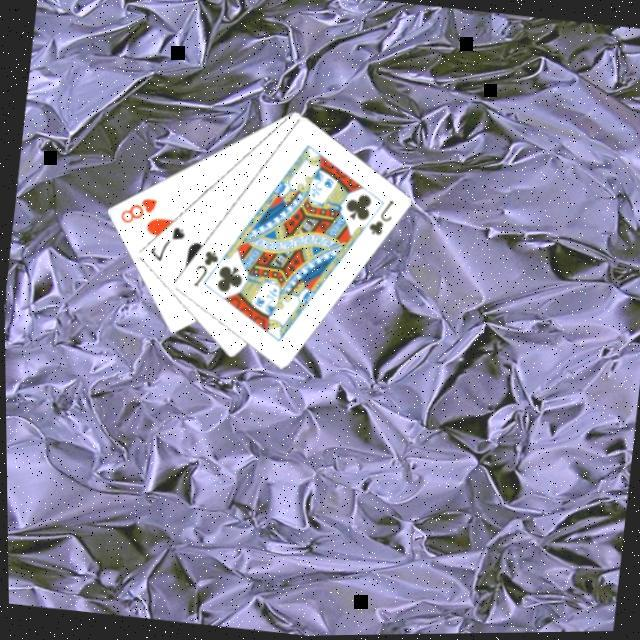7S: (142, 218, 188, 266)
8H: (113, 188, 159, 228)
JC: (186, 243, 222, 290), (362, 192, 396, 238)
